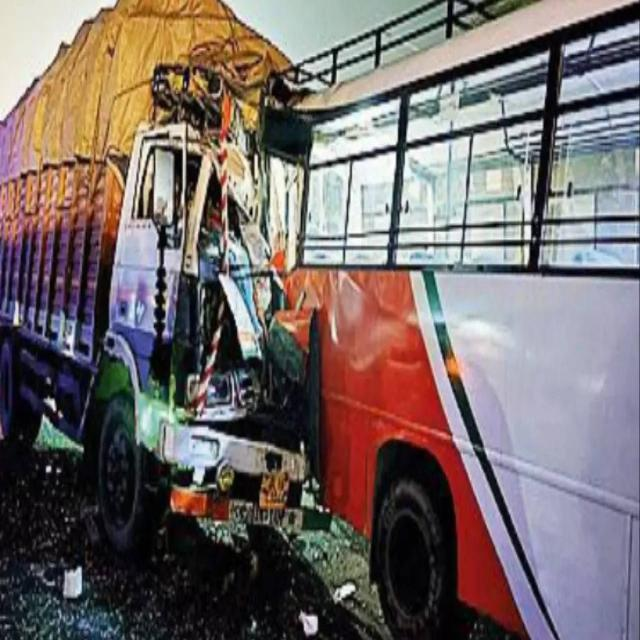accident: (0, 0, 309, 553)
bus: (269, 0, 640, 638)
